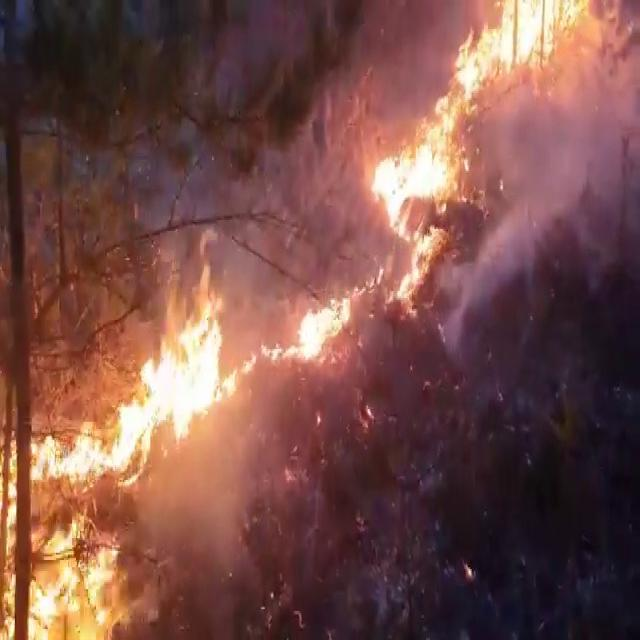Fire: (0, 280, 239, 640), (358, 95, 478, 301), (454, 0, 608, 87)
Smoke: (474, 10, 640, 296), (241, 242, 396, 382)
